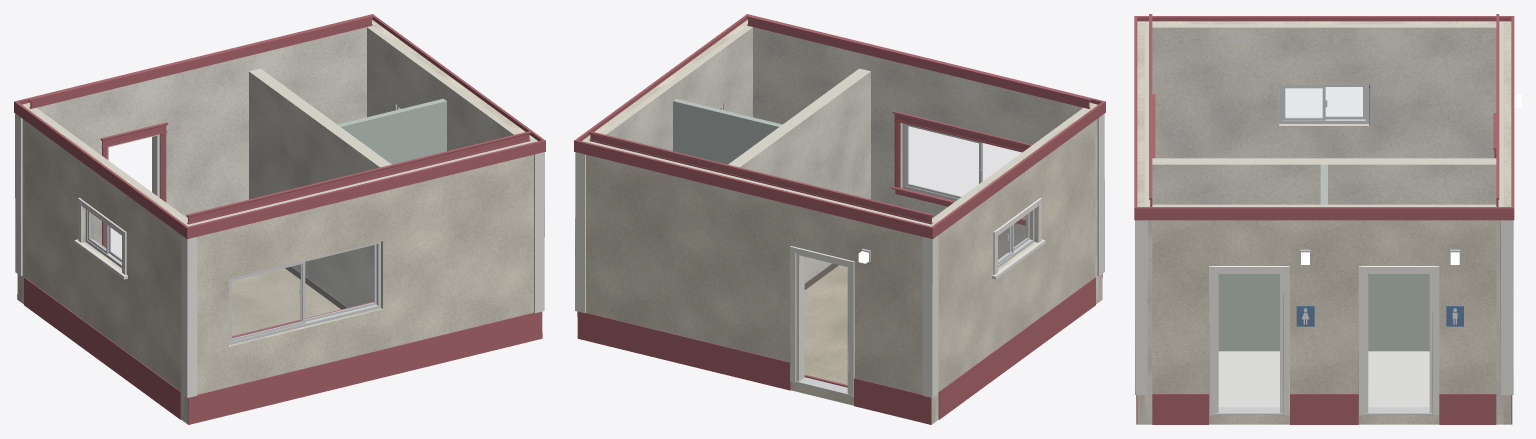
The model's file is cabin_ground.glb.
3 views of the same model, side by side, from view 1: azimuth 30°, elevation 25°; view 2: azimuth 150°, elevation 25°; view 3: azimuth 270°, elevation 25° (orthographic). The views are drawn at different scales.
Visible parts, largest first — view 1: cabin_ground_block_p, cabin_ground_plaster, cabin_ground_trim, molduras, cabin_ground_glass, cabin_ground_trim_w, cabin_ground_tile_g, cabin_ground_vinyl_f, cabin_ground_alu; view 2: cabin_ground_block_p, cabin_ground_plaster, cabin_ground_trim, cabin_ground_trim_w, molduras, cabin_ground_glass, cabin_ground_vinyl_f, cabin_ground_tile_g, cabin_ground_alu; view 3: cabin_ground_plaster, cabin_ground_block_p, cabin_ground_trim, cabin_ground_trim_w, cabin_ground_tile_g, cabin_ground_tile_w, cabin_ground_alu, cabin_ground_glass, molduras, cabin_ground_pad_b.
Boxes of the visible parts, left/top/right/bottom form: cabin_ground_block_p: left=18, top=19, right=534, bottom=424; cabin_ground_plaster: left=21, top=22, right=537, bottom=421; cabin_ground_trim: left=14, top=14, right=545, bottom=424; molduras: left=28, top=15, right=531, bottom=338; cabin_ground_glass: left=90, top=213, right=373, bottom=337; cabin_ground_trim_w: left=15, top=105, right=544, bottom=397; cabin_ground_tile_g: left=337, top=98, right=446, bottom=164; cabin_ground_vinyl_f: left=232, top=268, right=340, bottom=335; cabin_ground_alu: left=85, top=209, right=380, bottom=344; cabin_ground_block_p: left=585, top=19, right=1101, bottom=424; cabin_ground_plaster: left=582, top=22, right=1098, bottom=421; cabin_ground_trim: left=574, top=14, right=1105, bottom=424; cabin_ground_trim_w: left=575, top=105, right=1104, bottom=397; molduras: left=588, top=15, right=1091, bottom=387; cabin_ground_glass: left=908, top=127, right=1027, bottom=260; cabin_ground_vinyl_f: left=804, top=265, right=847, bottom=384; cabin_ground_tile_g: left=673, top=98, right=782, bottom=164; cabin_ground_alu: left=796, top=123, right=1034, bottom=394; cabin_ground_plaster: left=1144, top=21, right=1503, bottom=424; cabin_ground_block_p: left=1137, top=21, right=1511, bottom=424; cabin_ground_trim: left=1134, top=16, right=1514, bottom=424; cabin_ground_trim_w: left=1135, top=220, right=1513, bottom=415; cabin_ground_tile_g: left=1218, top=164, right=1429, bottom=351; cabin_ground_tile_w: left=1218, top=351, right=1429, bottom=407; cabin_ground_alu: left=1215, top=85, right=1432, bottom=414; cabin_ground_glass: left=1286, top=87, right=1362, bottom=117; molduras: left=1149, top=14, right=1499, bottom=206; cabin_ground_pad_b: left=1296, top=306, right=1463, bottom=326.
Size of the model in its own units: 6.21 by 3.3 by 5.18.
Materials: 16 (4 with a texture image).
